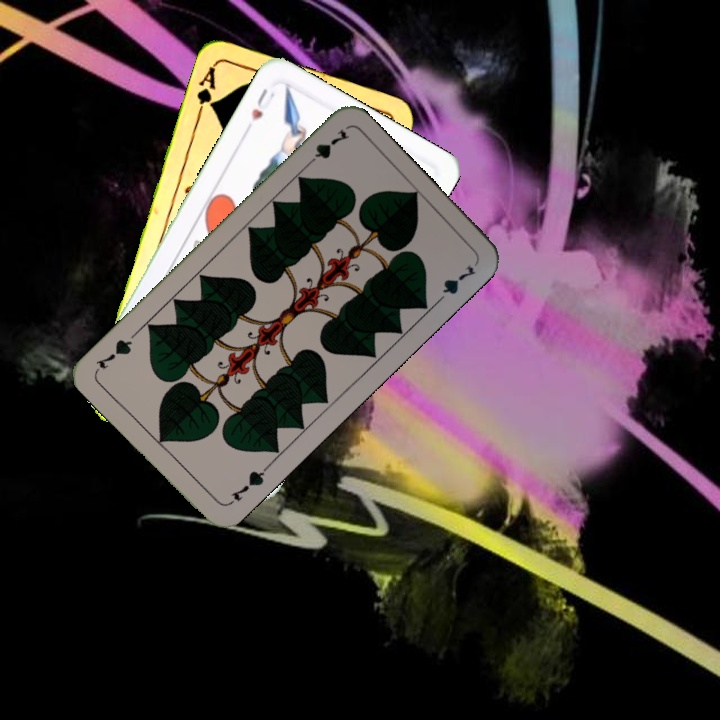G7: (300, 124, 351, 170), (224, 462, 271, 507)
GA: (192, 62, 219, 120)
HU: (247, 84, 278, 124)
